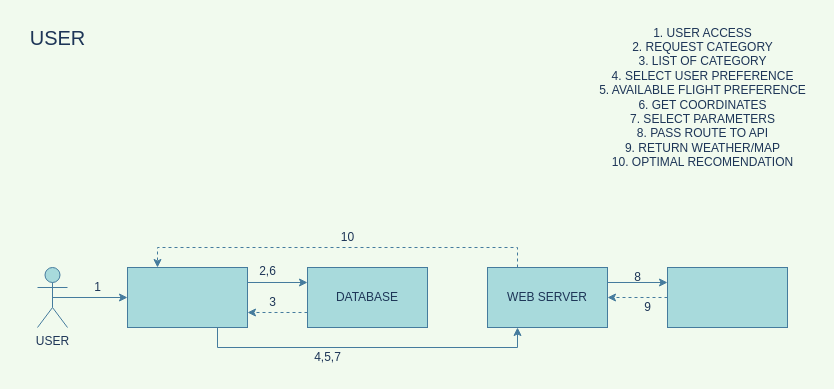
This 834x389 diagram has some shape labels left out. The centre of each missing label's shape, as x and y in pixels:
API: the point at 727,297
Client Application: the point at 187,297
